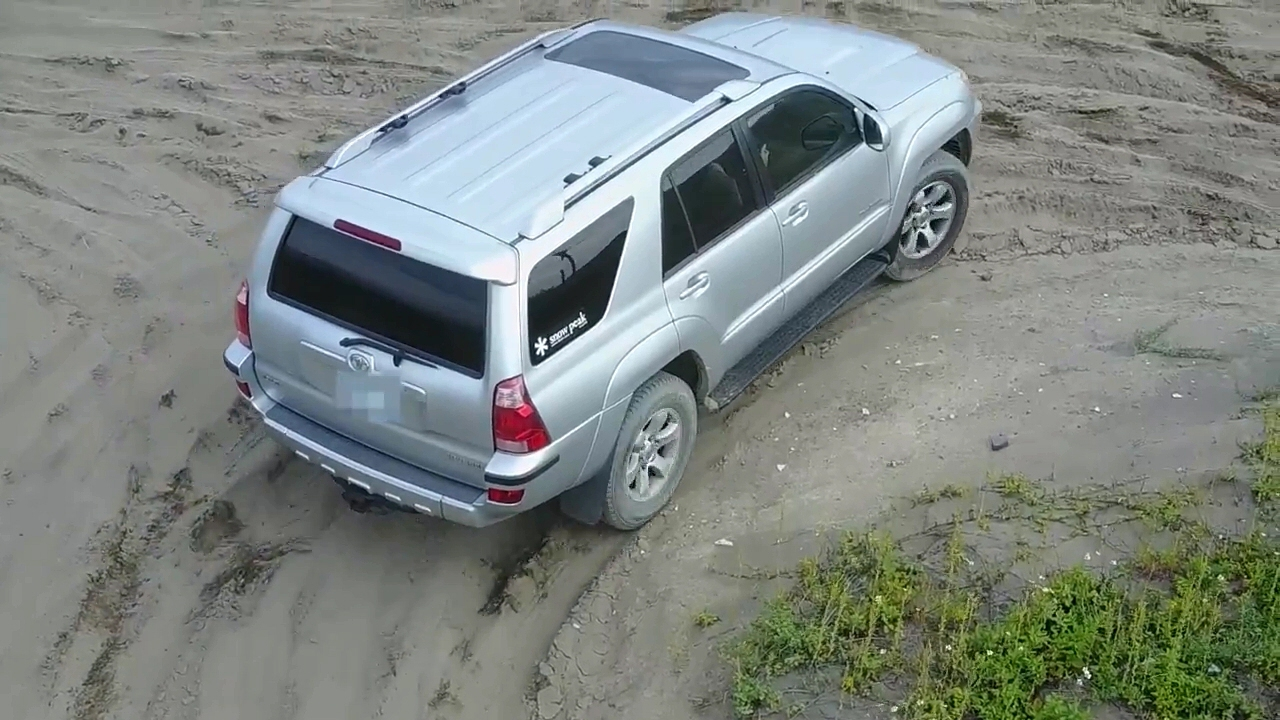araba: (231, 10, 994, 538)
